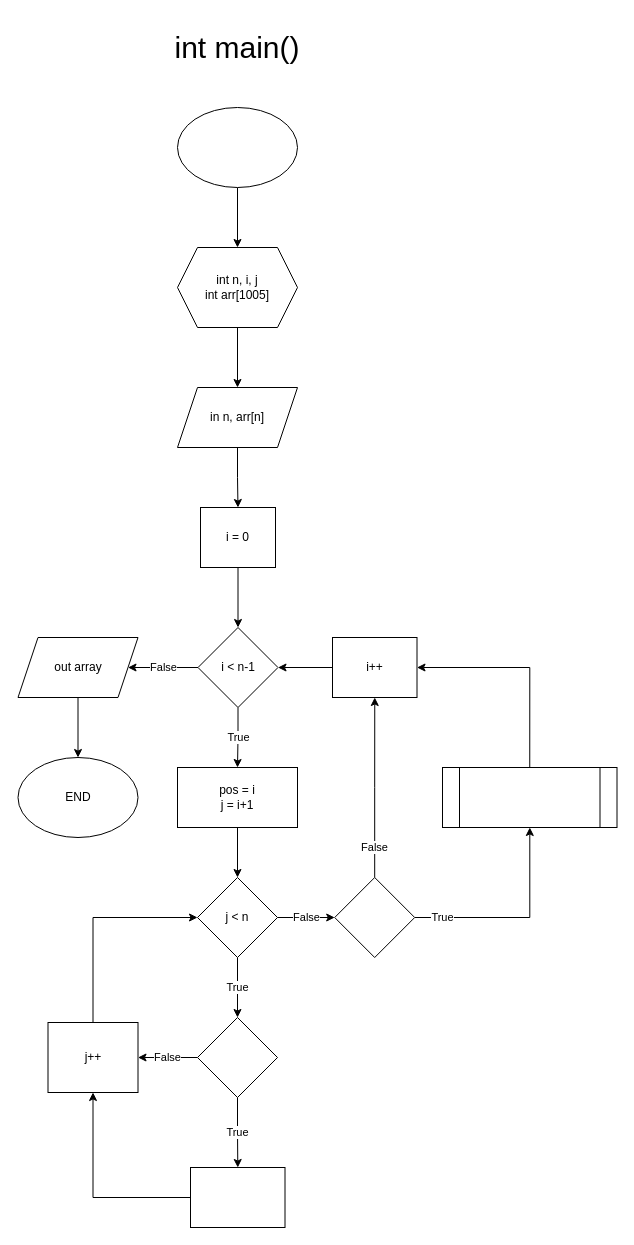
The diagram is 634 pixels wide and 1245 high, and some of its shapes have lost their labels. Each missing label, with the centre of its shape:
"arr[j] > arr[pos]" goes at pixel 237 1057.
"pos != i" goes at pixel 374 917.
"pos = j" goes at pixel 237 1197.
"START" goes at pixel 237 147.
"tukar(arr[pos], arr[i])" goes at pixel 529 797.
